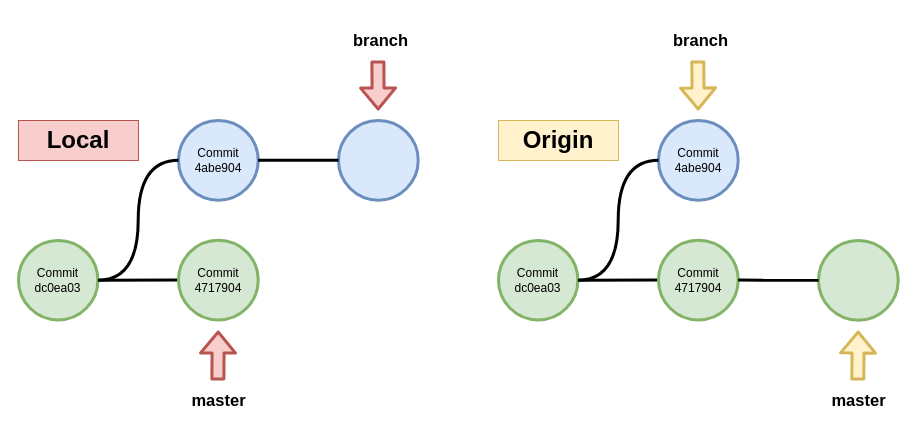
This 917x442 diagram has some shape labels left out. Here are the shapes that lost their labels. From the top down, the centre of each, then its label:
At point 377,159: "Commit d2f8456".
At point 857,279: "Commit c2a8526".
